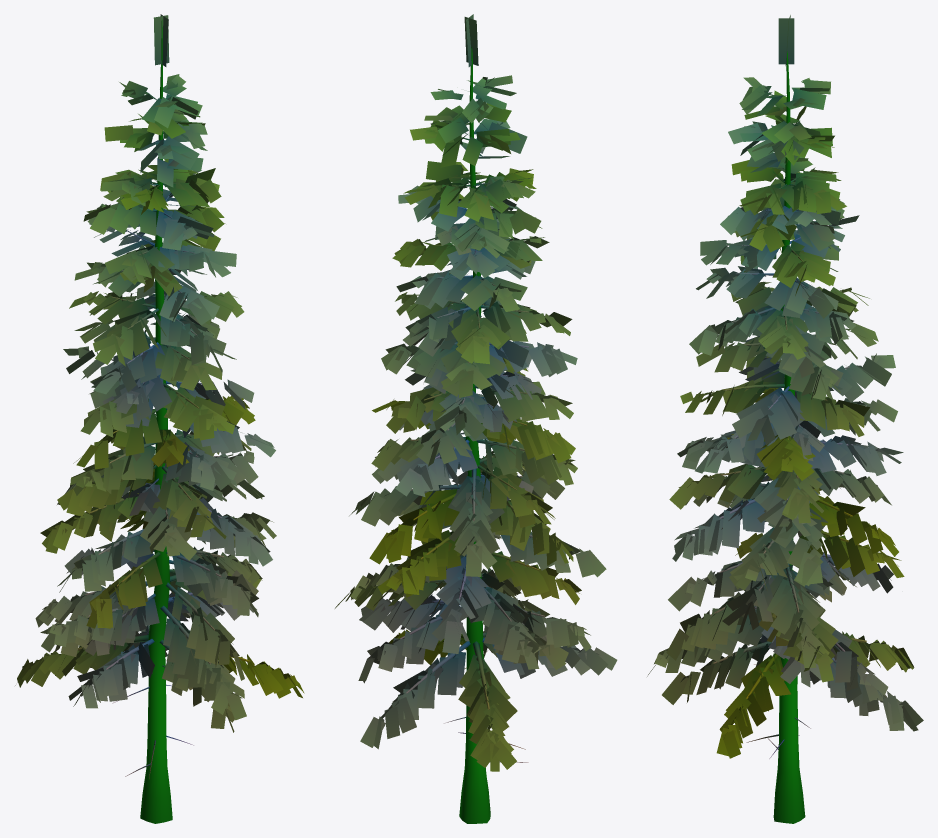
Rendered from larch_a.glb.
The picture shows the model from 3 angles, left to right: view 1: azimuth 30°, elevation 25°; view 2: azimuth 150°, elevation 25°; view 3: azimuth 270°, elevation 25°; orthographic projection.
Visible parts, largest first — view 1: LOD0; view 2: LOD0; view 3: LOD0.
Boxes of the visible parts, x1=… form: LOD0: x1=15, y1=14, x2=304, y2=823; LOD0: x1=335, y1=14, x2=617, y2=823; LOD0: x1=647, y1=15, x2=923, y2=823.
Size of what is drawn, in the model's own units: 5.72 by 18.45 by 5.79.
